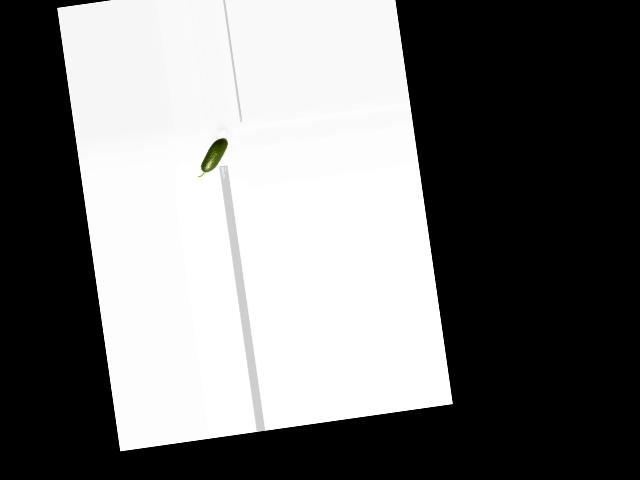cucumber: (193, 138, 232, 178)
